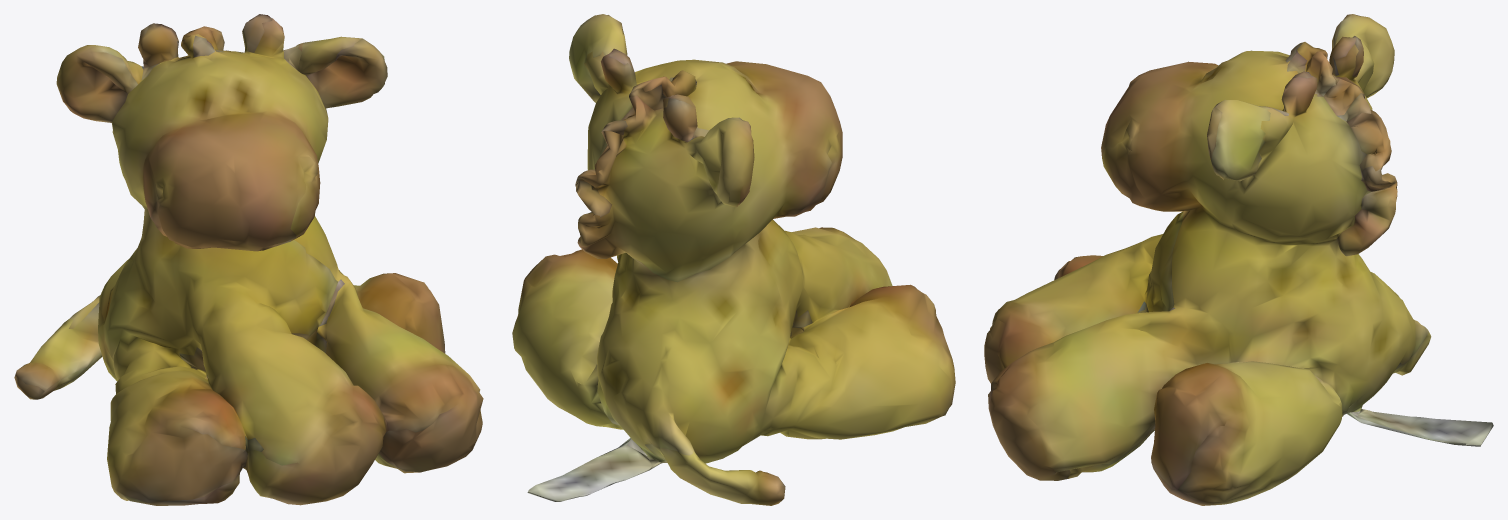
Rendered from Ortho_Forward_Facing-medium.glb.
The picture shows the model from 3 angles, left to right: view 1: azimuth 30°, elevation 25°; view 2: azimuth 150°, elevation 25°; view 3: azimuth 270°, elevation 25°; orthographic projection. The views are drawn at different scales.
Visible parts, largest first — view 1: Ortho_Forward_Facing; view 2: Ortho_Forward_Facing; view 3: Ortho_Forward_Facing.
Part boxes in pixels (left/top/right/bottom): Ortho_Forward_Facing: left=14, top=14, right=483, bottom=505; Ortho_Forward_Facing: left=512, top=14, right=955, bottom=505; Ortho_Forward_Facing: left=984, top=14, right=1493, bottom=505.
Bounding box in the file's own units: 0.2024 × 0.1903 × 0.2347.
Materials: 1 (1 with a texture image).
